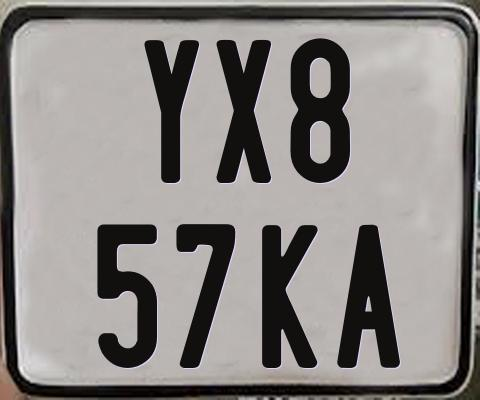5: (96, 223, 157, 368)
7: (175, 223, 237, 369)
8: (289, 38, 353, 185)
A: (335, 224, 399, 367)
K: (260, 225, 318, 373)
X: (215, 40, 275, 188)
Y: (143, 40, 200, 189)
